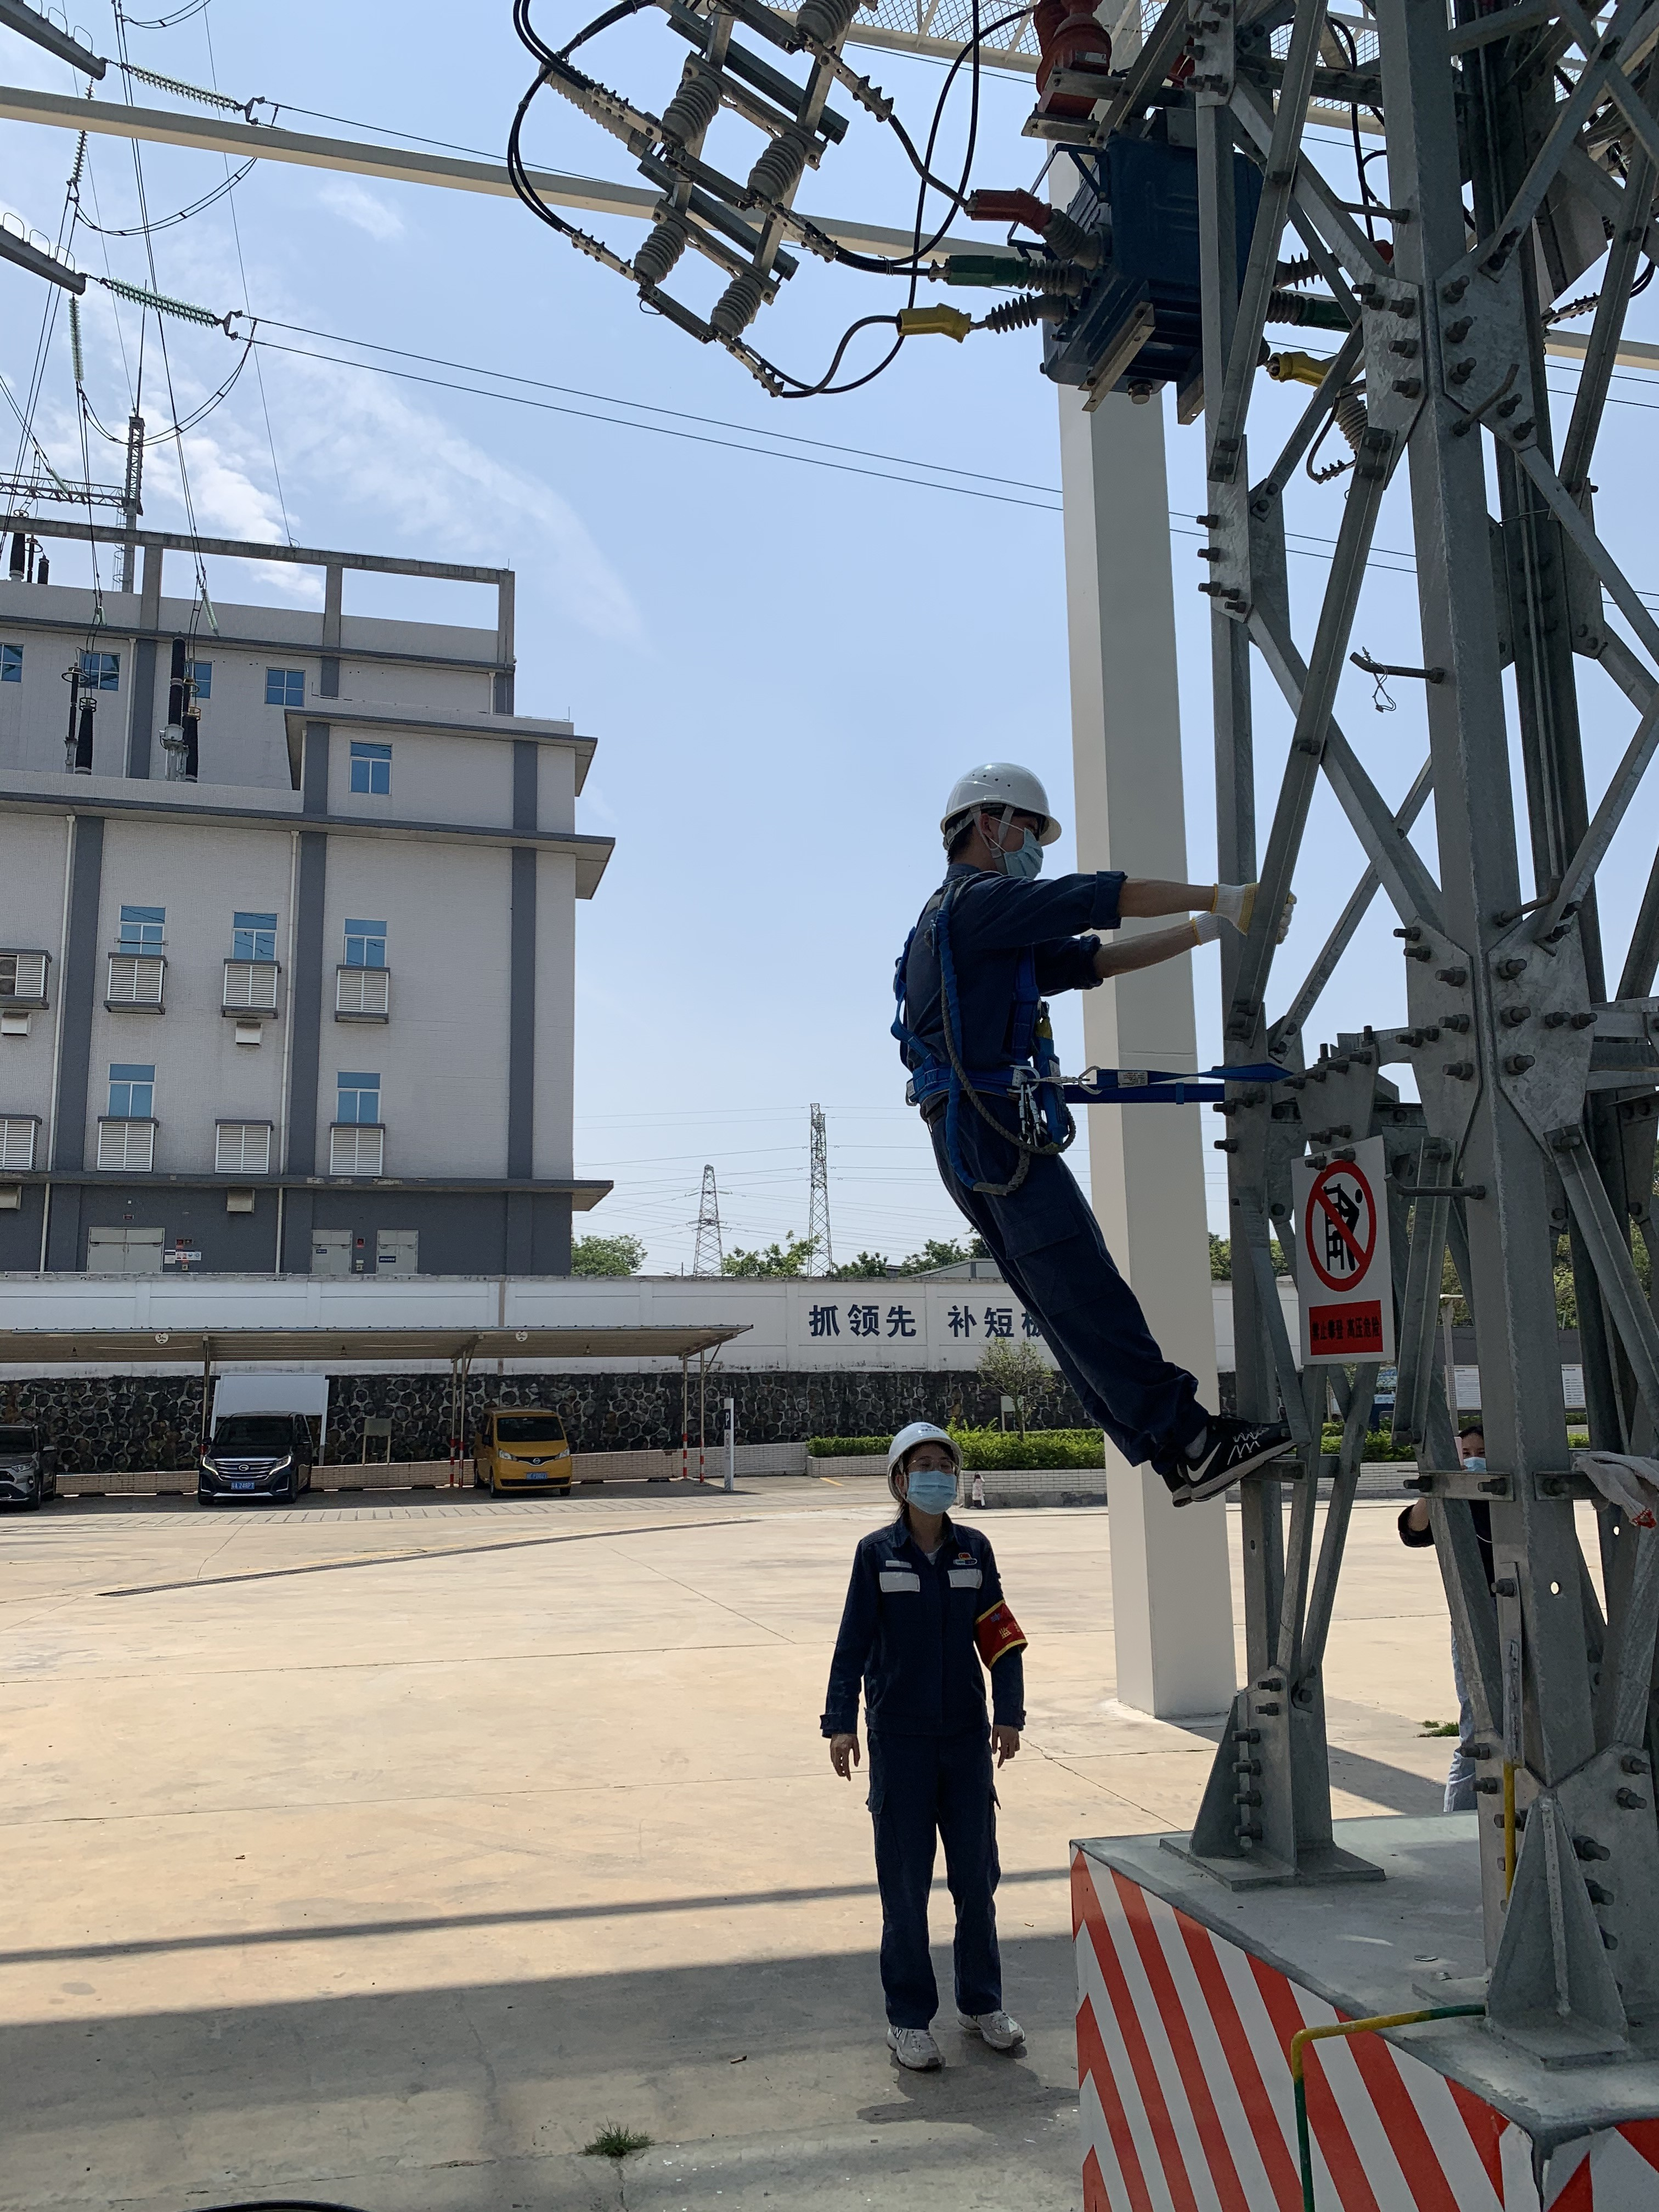downsuit: (929, 1111, 1192, 1463), (866, 1747, 1009, 2020)
upsuit: (890, 862, 1126, 1108), (824, 1521, 1032, 1737)
wrongtop: (1086, 867, 1213, 925), (1065, 934, 1202, 981)
